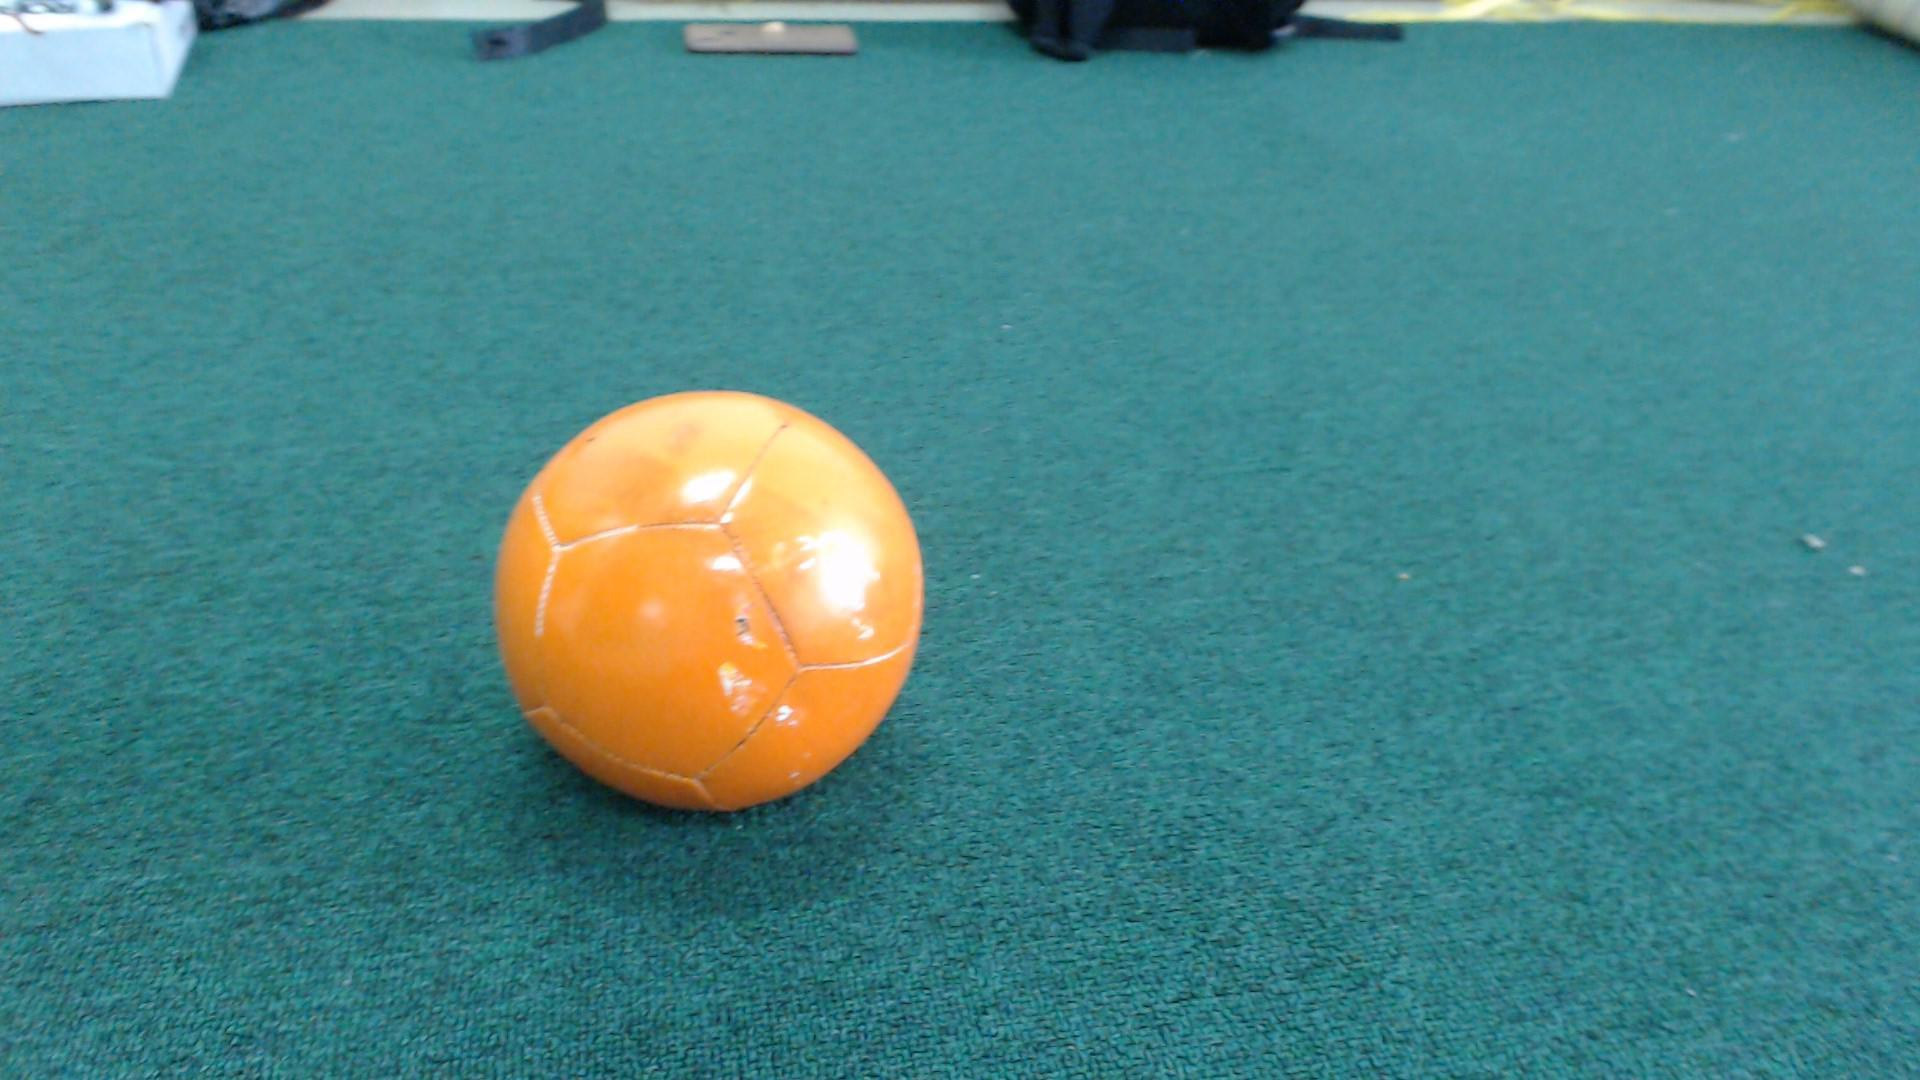bola: (465, 357, 975, 844)
